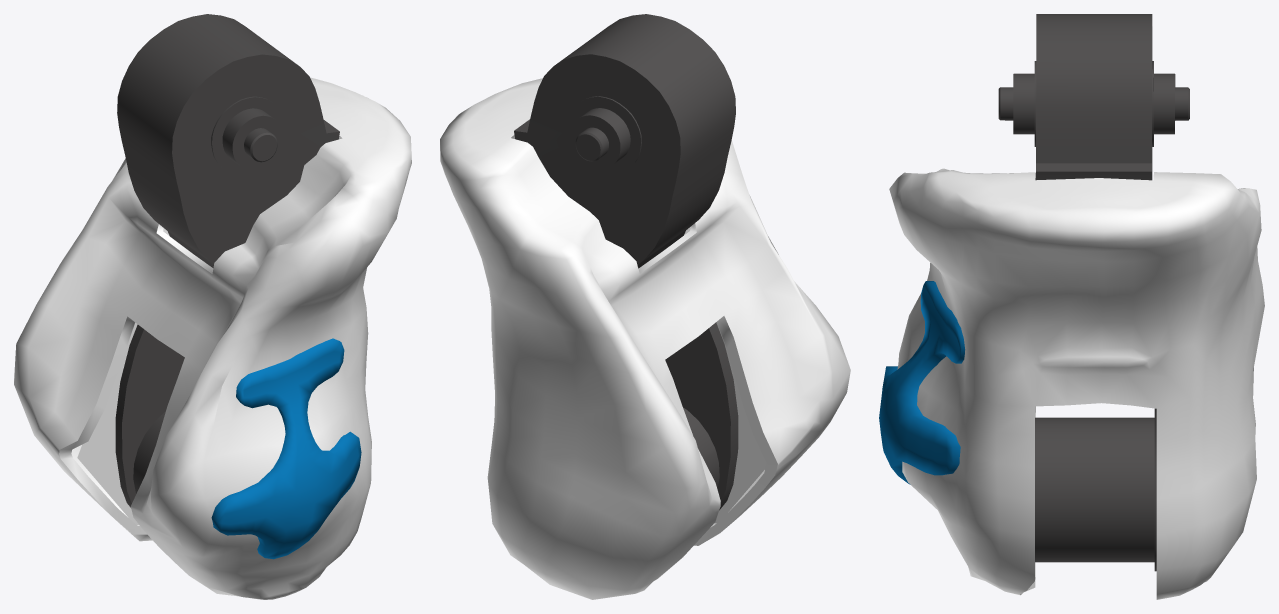
File: RKneePitch.dae
3 views of the same model, side by side, from view 1: azimuth 30°, elevation 25°; view 2: azimuth 150°, elevation 25°; view 3: azimuth 270°, elevation 25° (orthographic). The views are drawn at different scales.
Parts seen in each view (by area): view 1: RKneePitch; view 2: RKneePitch; view 3: RKneePitch.
Boxes of the visible parts, <box> form: RKneePitch: <box>14,14,411,599</box>; RKneePitch: <box>440,14,850,599</box>; RKneePitch: <box>879,14,1264,599</box>.
Bounding box in the file's own units: 0.8968 × 0.9329 × 1.48.
1 material, 1 textured.
